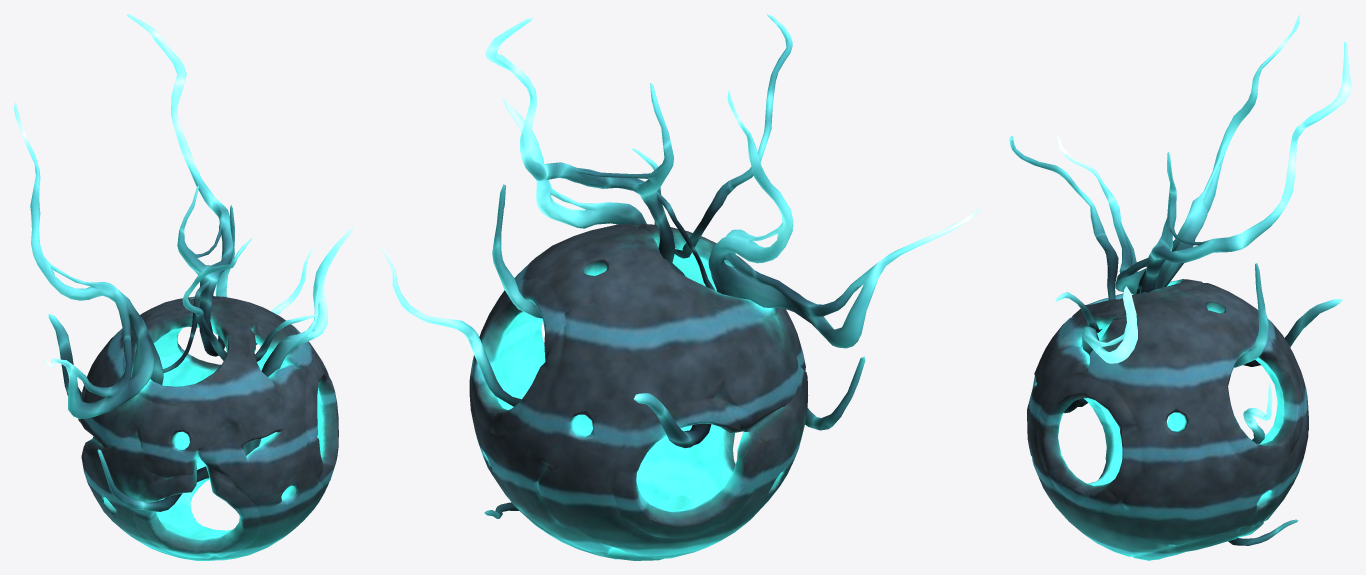
File: caos_drs_chaospot_01a_soma_v36.glb
3 renders of one model, left to right at view 1: azimuth 30°, elevation 25°; view 2: azimuth 150°, elevation 25°; view 3: azimuth 270°, elevation 25°, orthographic. The views are drawn at different scales.
Parts seen in each view (by area): view 1: caos_drs_chaospot_01a; view 2: caos_drs_chaospot_01a; view 3: caos_drs_chaospot_01a.
Boxes of the visible parts, bbox=[...] form: caos_drs_chaospot_01a: bbox=[14, 14, 353, 560]; caos_drs_chaospot_01a: bbox=[382, 14, 980, 560]; caos_drs_chaospot_01a: bbox=[1009, 14, 1351, 560].
Bounding box in the file's own units: 2.37 × 2.89 × 1.77.
Materials: 2 (2 with a texture image).
